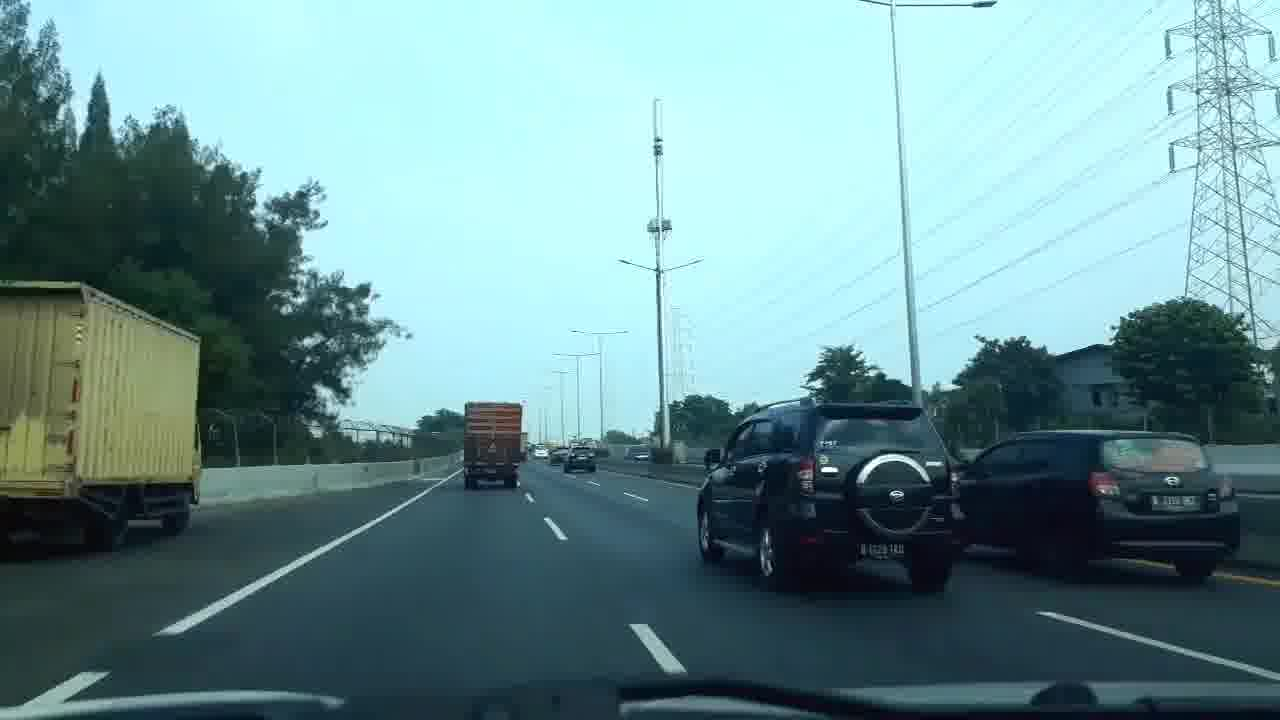plate_positive: (1150, 494, 1201, 513), (858, 542, 905, 562)
